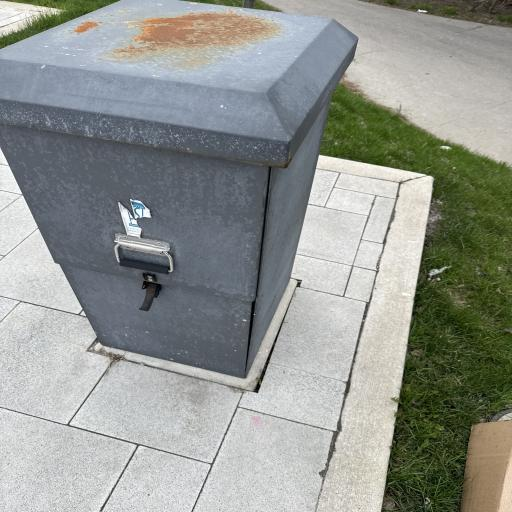Electrical Box: (2, 0, 364, 376)
